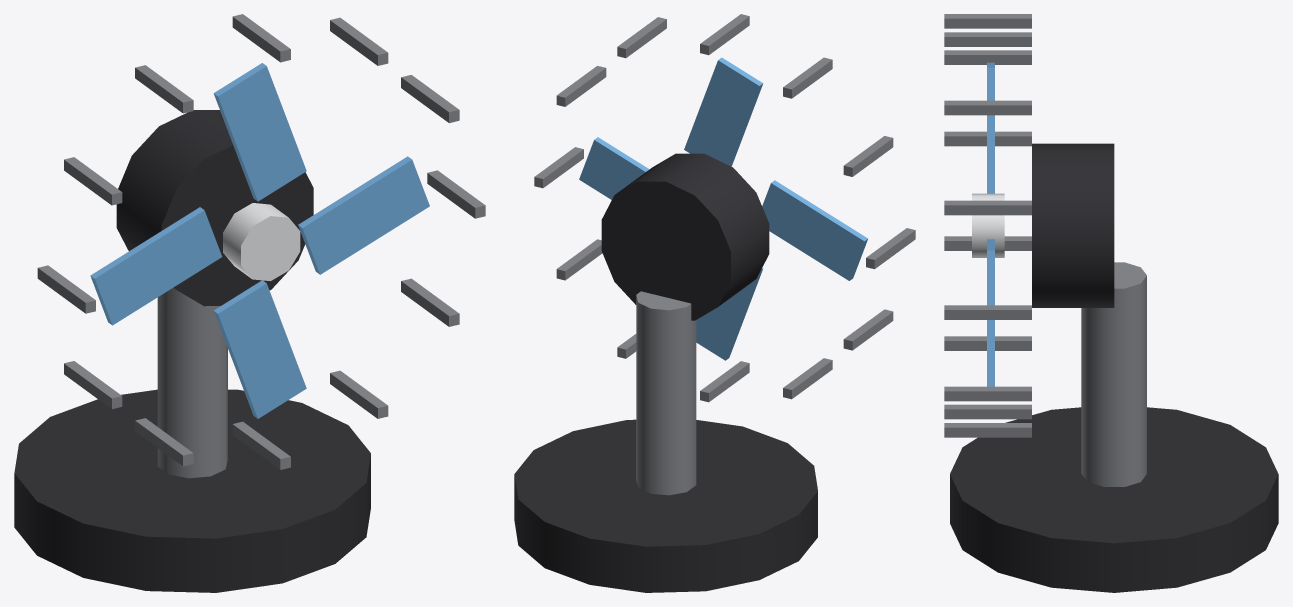
The model's file is desk-fan.glb.
3 views of the same model, side by side, from view 1: azimuth 30°, elevation 25°; view 2: azimuth 150°, elevation 25°; view 3: azimuth 270°, elevation 25° (orthographic). The views are drawn at different scales.
Parts seen in each view (by area): view 1: base, blades; view 2: base, blades; view 3: base, blades.
Part boxes in pixels (bbox=[...]): base: bbox=[14, 14, 485, 592]; blades: bbox=[90, 63, 429, 418]; base: bbox=[514, 14, 915, 592]; blades: bbox=[579, 57, 867, 360]; base: bbox=[944, 14, 1278, 592]; blades: bbox=[972, 62, 1004, 386].
Size of the model in its own units: 0.154 by 0.197 by 0.122.
